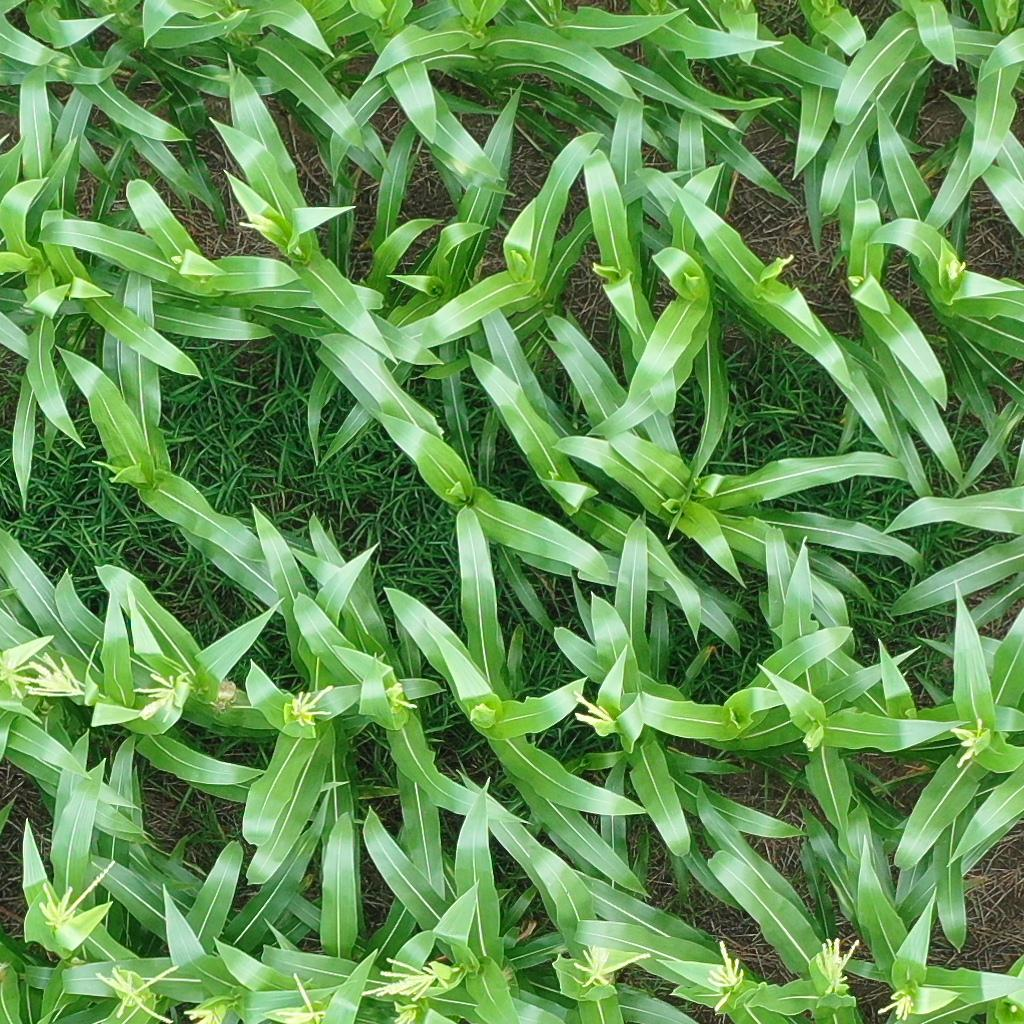Tassel: (38, 857, 115, 931), (91, 959, 182, 1020), (359, 955, 456, 1004), (569, 946, 655, 990), (25, 654, 96, 698), (128, 669, 184, 724), (813, 936, 861, 1000), (271, 972, 329, 1024), (707, 937, 743, 1012), (288, 682, 337, 730), (1, 639, 33, 705), (948, 713, 984, 768), (574, 690, 616, 731), (874, 987, 915, 1018), (380, 678, 416, 713), (232, 209, 282, 234), (938, 255, 970, 282), (387, 1002, 420, 1024), (184, 1003, 220, 1023)
